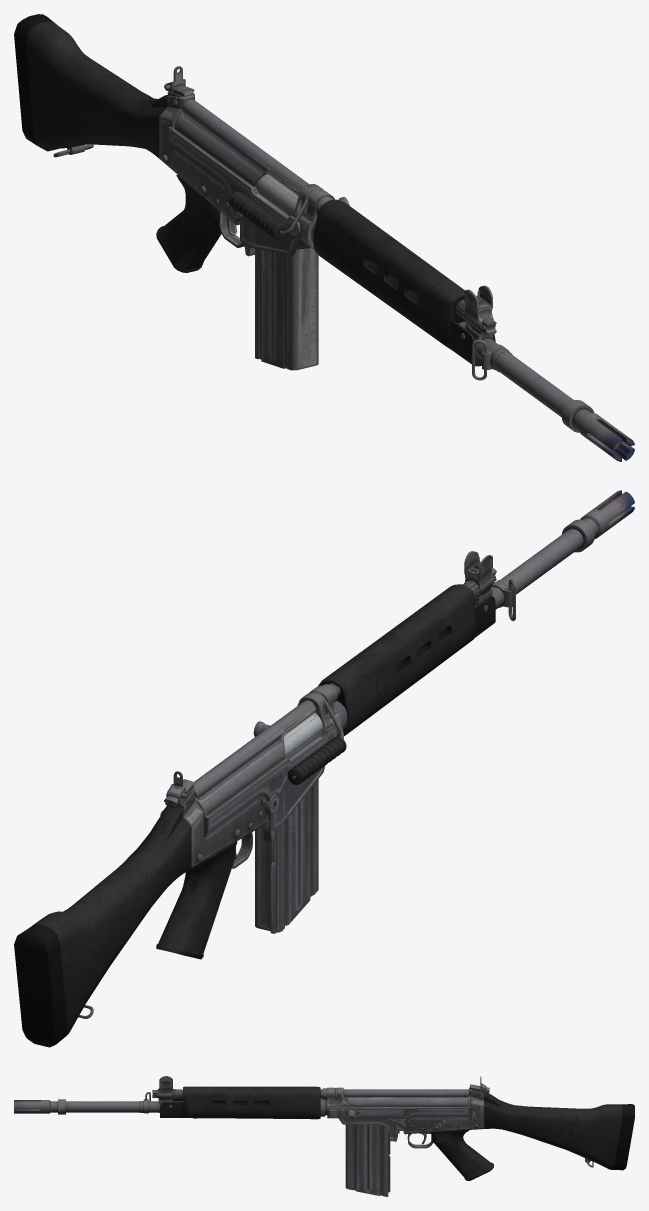
The model's file is rifle.glb.
The picture shows the model from 3 angles, top to bottom: view 1: azimuth 30°, elevation 25°; view 2: azimuth 150°, elevation 25°; view 3: azimuth 270°, elevation 25°; orthographic projection. The views are drawn at different scales.
Parts seen in each view (by area): view 1: base, clip, handle, bolt; view 2: base, clip, handle, bolt; view 3: base, clip, bolt.
Boxes of the visible parts, left/top/right/bottom form: base: left=14, top=14, right=634, bottom=461; clip: left=255, top=247, right=318, bottom=370; handle: left=229, top=189, right=320, bottom=239; bolt: left=256, top=173, right=349, bottom=215; base: left=14, top=490, right=634, bottom=1047; clip: left=255, top=779, right=318, bottom=933; handle: left=287, top=692, right=346, bottom=784; bolt: left=253, top=711, right=322, bottom=758; base: left=14, top=1076, right=634, bottom=1180; clip: left=345, top=1124, right=390, bottom=1196; bolt: left=328, top=1109, right=404, bottom=1122.
Size of the model in its own units: 9.24 by 24.31 by 117.
1 material, 1 textured.
